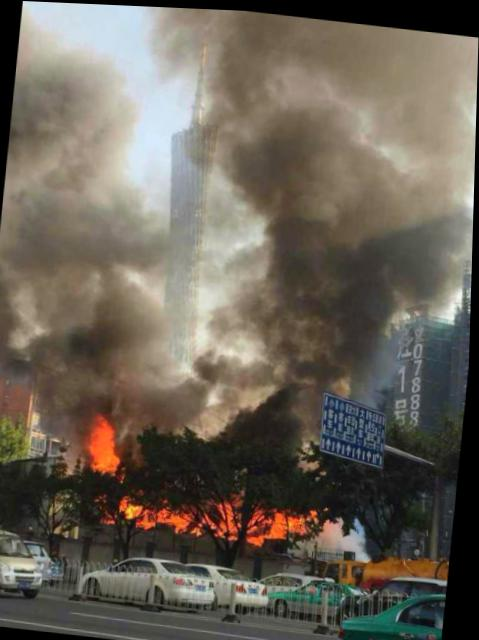fire: (83, 413, 127, 472), (250, 504, 288, 540), (156, 503, 192, 523), (222, 500, 242, 535), (122, 493, 143, 515), (139, 504, 158, 525), (288, 511, 309, 530)
